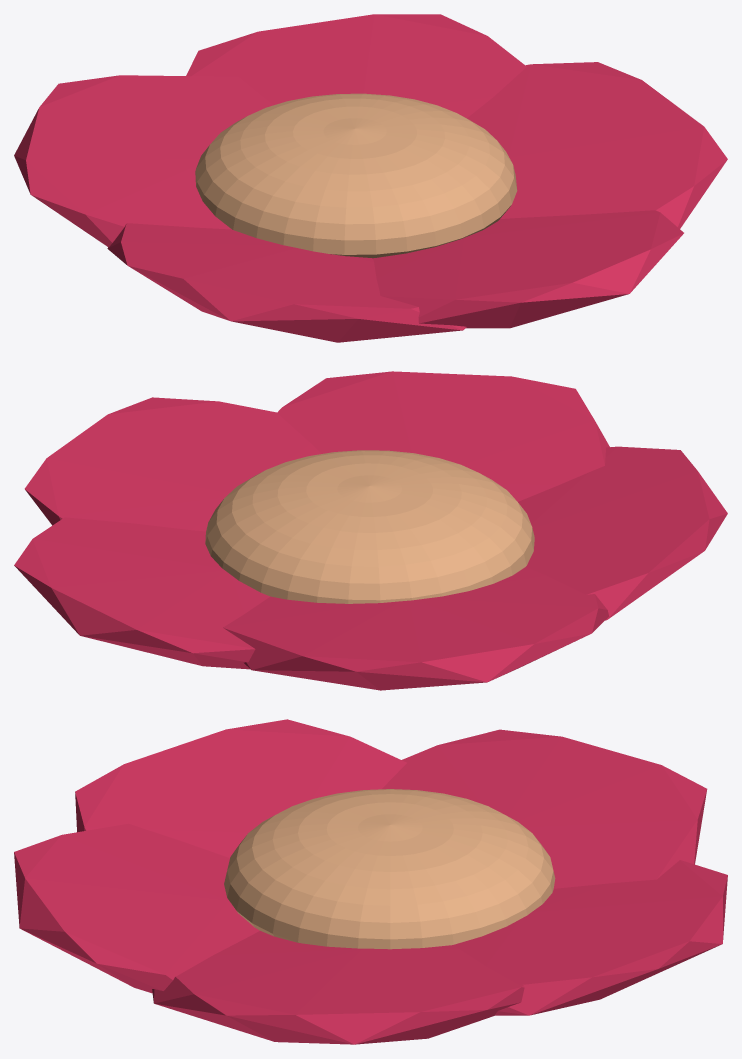
The model's file is Flower.fbx.
The picture shows the model from 3 angles, top to bottom: view 1: azimuth 30°, elevation 25°; view 2: azimuth 150°, elevation 25°; view 3: azimuth 270°, elevation 25°; orthographic projection. The views are drawn at different scales.
Parts seen in each view (by area): view 1: Sphere, Icosphere.003, Icosphere.001, Icosphere.004, Icosphere.002, Icosphere.000; view 2: Sphere, Icosphere.001, Icosphere.004, Icosphere.003, Icosphere.000, Icosphere.002; view 3: Sphere, Icosphere.001, Icosphere.003, Icosphere.004, Icosphere.002, Icosphere.000.
Boxes of the visible parts, x1,y1,x2,y2 form: Sphere: (195,93,517,258); Icosphere.003: (467,62,727,228); Icosphere.001: (14,75,273,247); Icosphere.004: (373,210,683,328); Icosphere.002: (107,223,466,342); Icosphere.000: (186,14,526,118); Sphere: (205,450,534,603); Icosphere.001: (223,567,609,690); Icosphere.004: (277,371,609,501); Icosphere.003: (24,397,320,531); Icosphere.000: (14,517,269,669); Icosphere.002: (518,446,727,620); Sphere: (224,789,555,949); Icosphere.001: (382,729,707,888); Icosphere.003: (152,931,524,1044); Icosphere.004: (14,823,259,993); Icosphere.002: (75,719,406,857); Icosphere.000: (452,860,727,1015).
Bounding box in the file's own units: 146 × 29.94 × 147.
